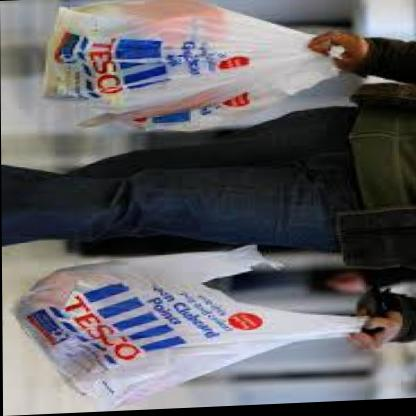Plastic: (17, 230, 394, 416), (22, 0, 360, 143)
